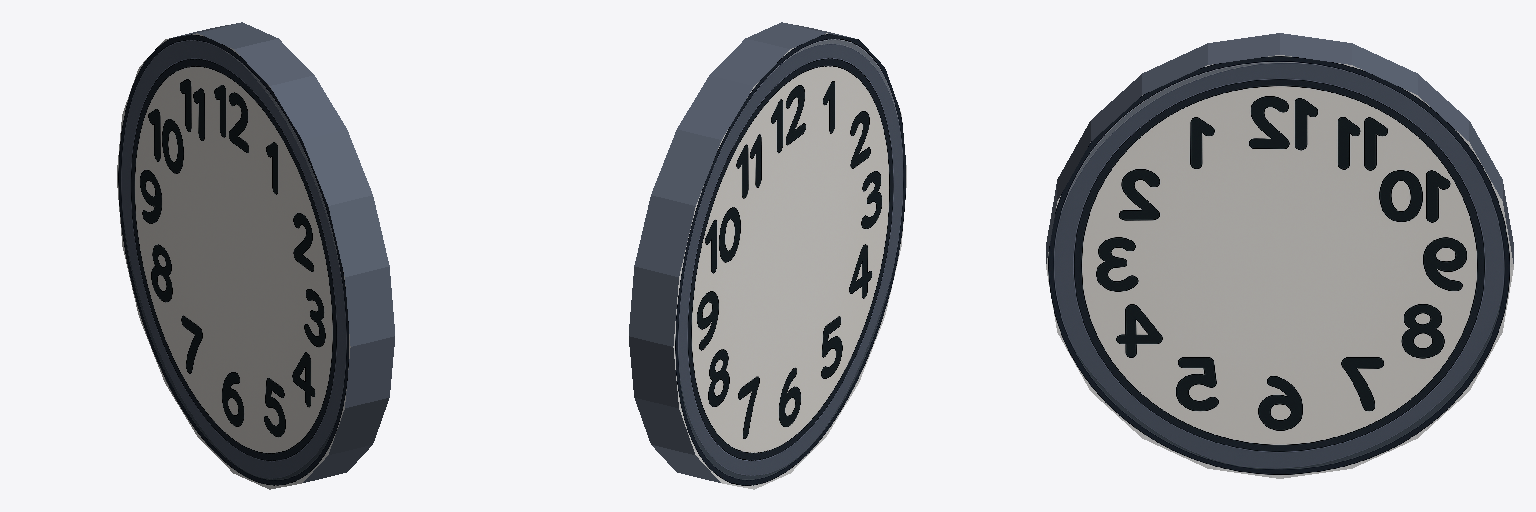
3 views of the same model, side by side, from view 1: azimuth 30°, elevation 25°; view 2: azimuth 150°, elevation 25°; view 3: azimuth 270°, elevation 25° (orthographic).
Parts seen in each view (by area): view 1: pCylinder2; view 2: pCylinder2; view 3: pCylinder2.
Part boxes in pixels (left/top/right/bottom): pCylinder2: left=117, top=22, right=394, bottom=489; pCylinder2: left=629, top=22, right=906, bottom=489; pCylinder2: left=1046, top=33, right=1513, bottom=478.
Bounding box in the file's own units: 0.278 × 2.51 × 2.51.
2 materials, 2 textured.